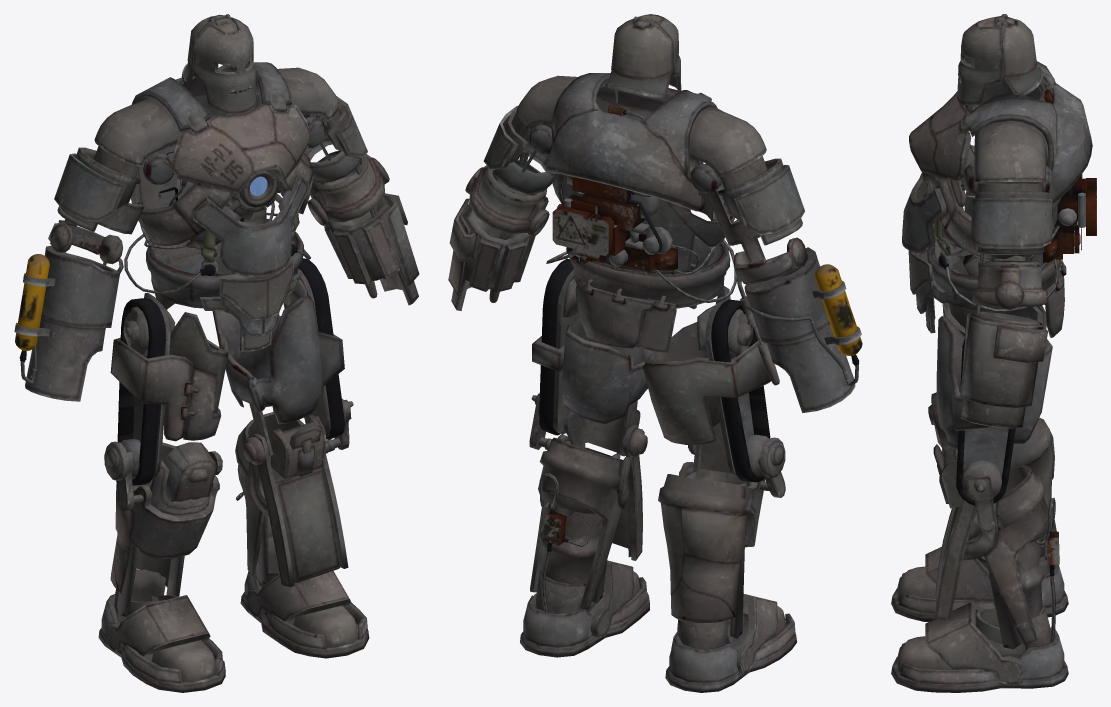
The model's file is reduced.glb.
The picture shows the model from 3 angles, left to right: view 1: azimuth 30°, elevation 25°; view 2: azimuth 150°, elevation 25°; view 3: azimuth 270°, elevation 25°; orthographic projection. The views are drawn at different scales.
Parts seen in each view (by area): view 1: abdomen_part_3, arc_reactor, right_arm_cylinder; view 2: abdomen_part_3, arc_reactor, back_engine, right_arm_cylinder; view 3: abdomen_part_3, back_engine, arc_reactor.
Part boxes in pixels (box(x1,y1,x2,y2)): abdomen_part_3: box(14, 14, 419, 692); arc_reactor: box(19, 78, 377, 500); right_arm_cylinder: box(15, 254, 49, 350); abdomen_part_3: box(448, 14, 861, 692); arc_reactor: box(512, 110, 859, 612); back_engine: box(543, 105, 764, 545); right_arm_cylinder: box(814, 264, 862, 355); abdomen_part_3: box(891, 14, 1092, 692); back_engine: box(1042, 89, 1096, 564); arc_reactor: box(938, 84, 1072, 641).
Bounding box in the file's own units: 9.38 × 13.95 × 4.2.
Materials: 8 (8 with a texture image).
